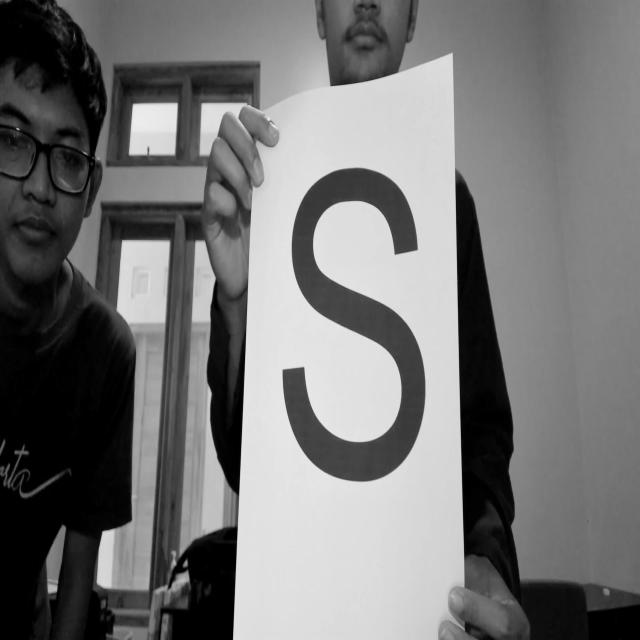s: (260, 141, 438, 505)
